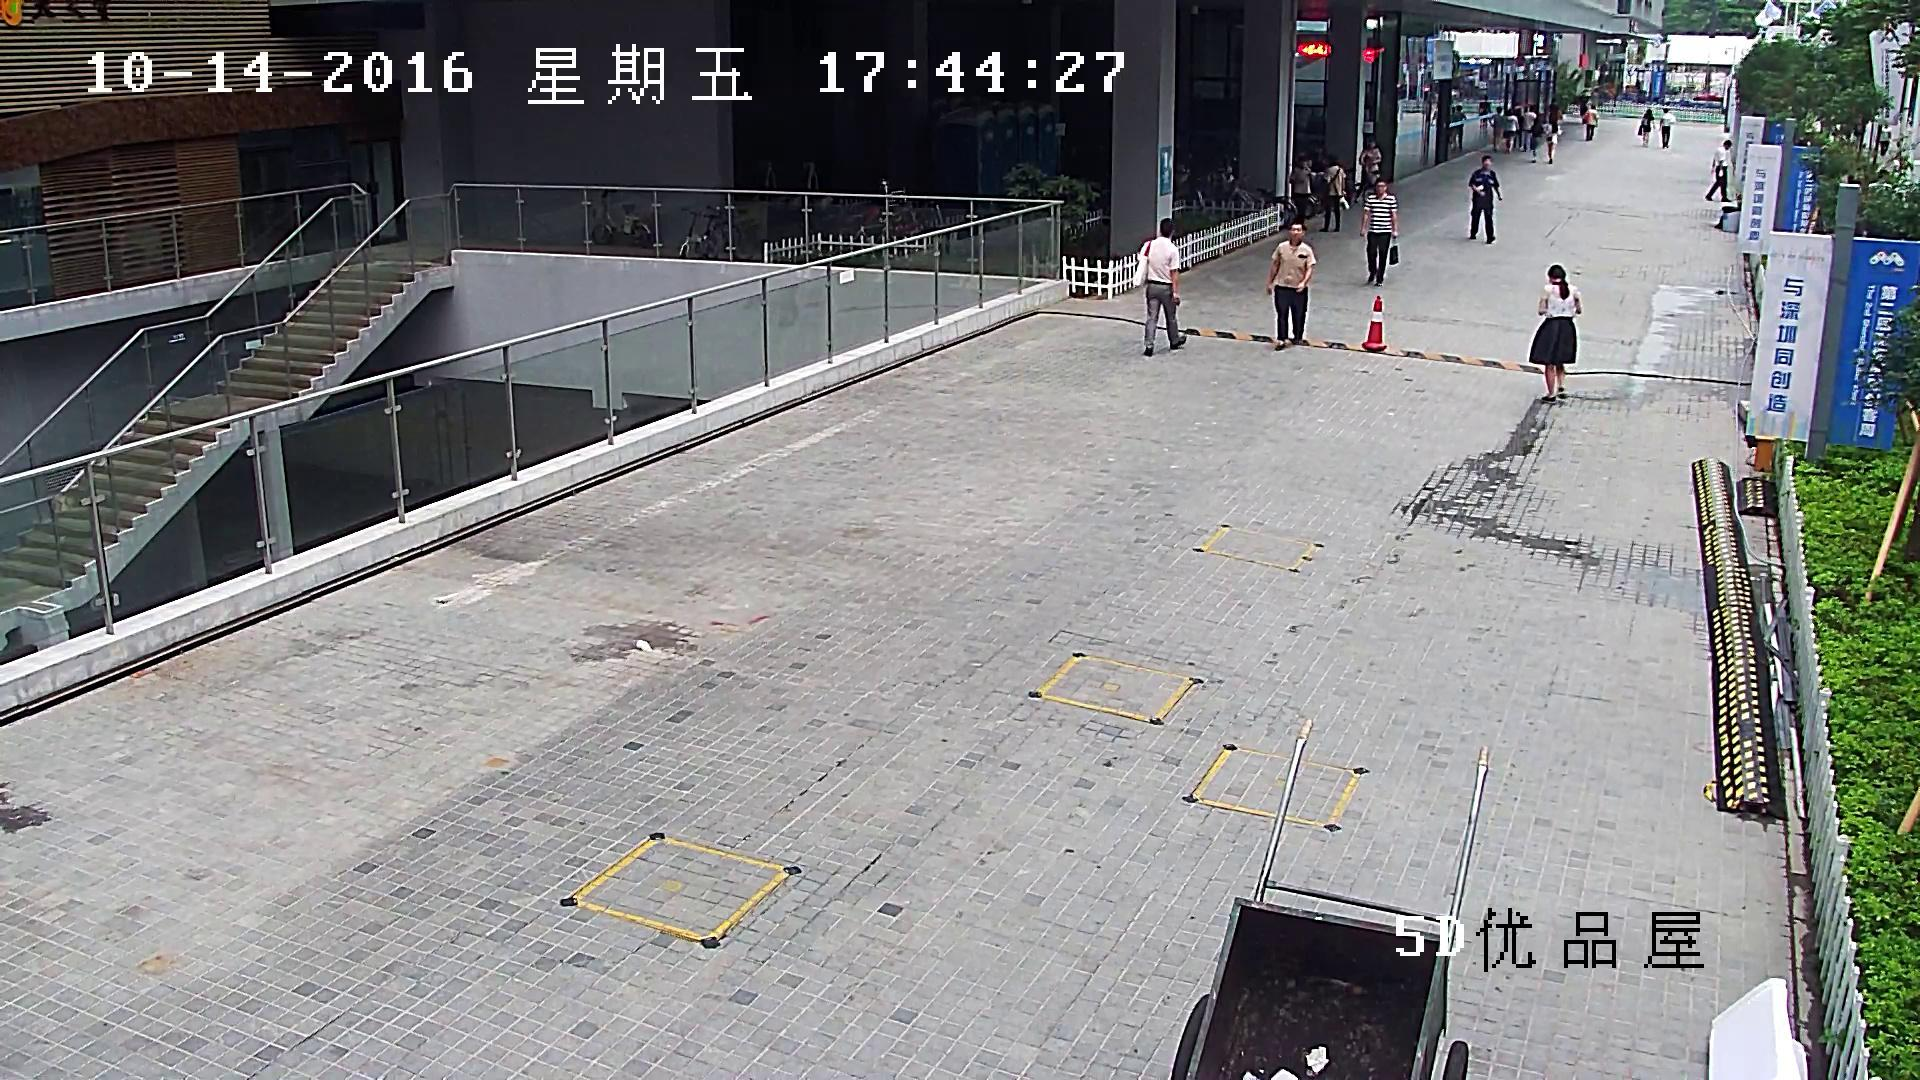person: (1529, 263, 1582, 405), (1133, 217, 1187, 357), (1266, 221, 1316, 350), (1360, 179, 1399, 287), (1468, 154, 1502, 244), (1316, 155, 1346, 232), (1289, 156, 1311, 230), (1705, 140, 1732, 202), (1360, 139, 1382, 186), (1488, 107, 1504, 151), (1502, 109, 1519, 154), (1546, 118, 1561, 164), (1637, 108, 1655, 147), (1451, 105, 1465, 153), (1659, 108, 1674, 148), (1582, 104, 1598, 140), (1523, 111, 1536, 151), (1478, 95, 1490, 136), (1879, 124, 1891, 155), (1513, 115, 1523, 149), (1548, 97, 1561, 118), (1578, 91, 1588, 116)
